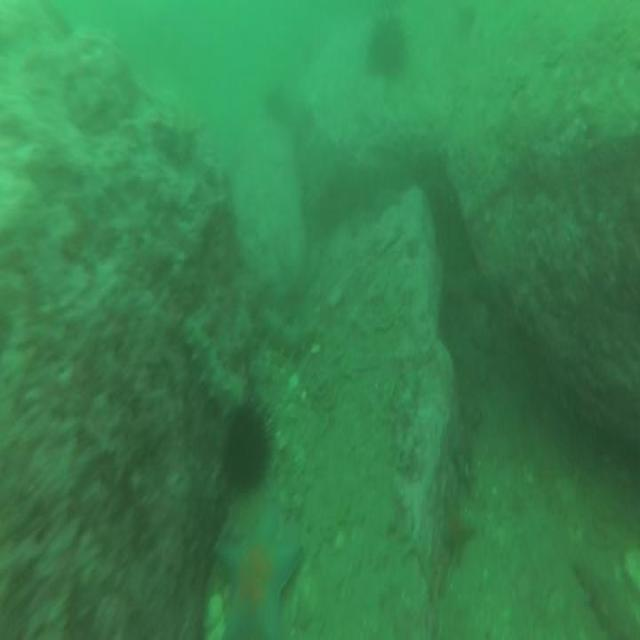echinus: (216, 387, 273, 498), (363, 16, 407, 85)
holothurian: (249, 295, 317, 362)
starfish: (212, 513, 303, 640), (440, 485, 476, 566)
